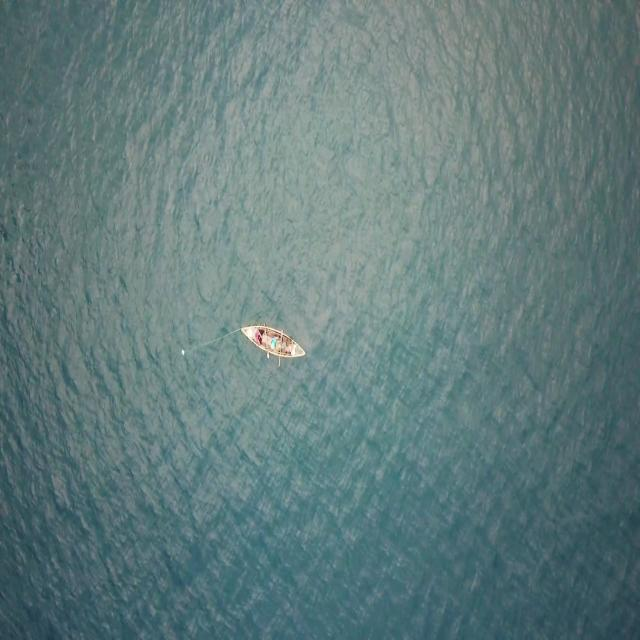ship: (238, 317, 310, 360)
